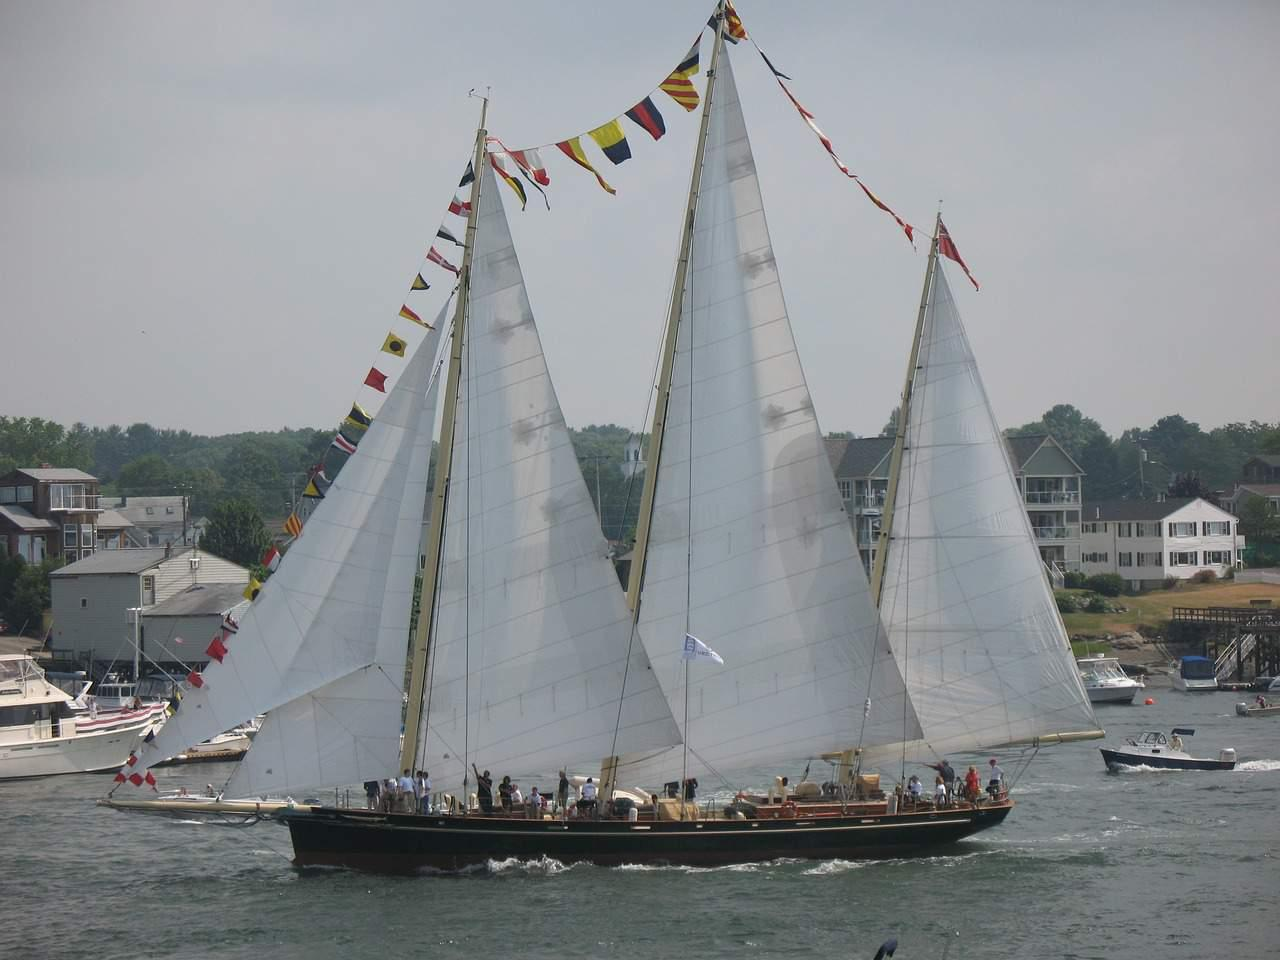Ship: (92, 1, 1107, 879), (1, 654, 168, 783), (1077, 656, 1141, 706)
